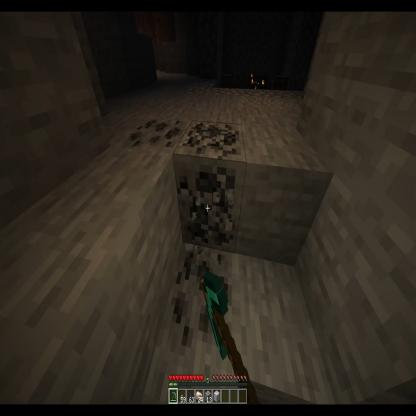coal ore: (176, 118, 245, 255), (157, 244, 233, 364), (119, 113, 187, 160)
